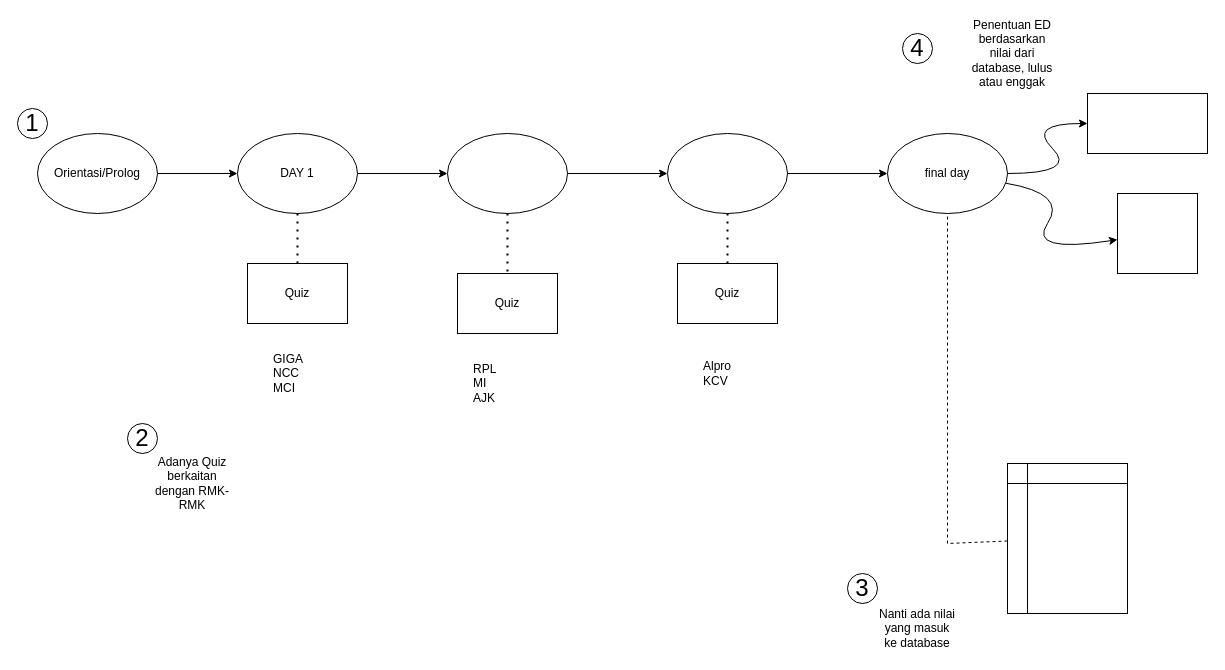
This 1225x670 diagram has some shape labels left out. Each missing label, with the box of its shape:
AJK GIGA Alrpo NCC MCI MI KCV RPL: (1006, 462, 1128, 614)
Bad End: (1116, 192, 1198, 274)
DAY 2: (446, 132, 568, 214)
DAY 3: (666, 132, 788, 214)
Kumpulan Ending(lebih dari 1 ED): (1086, 92, 1208, 154)
